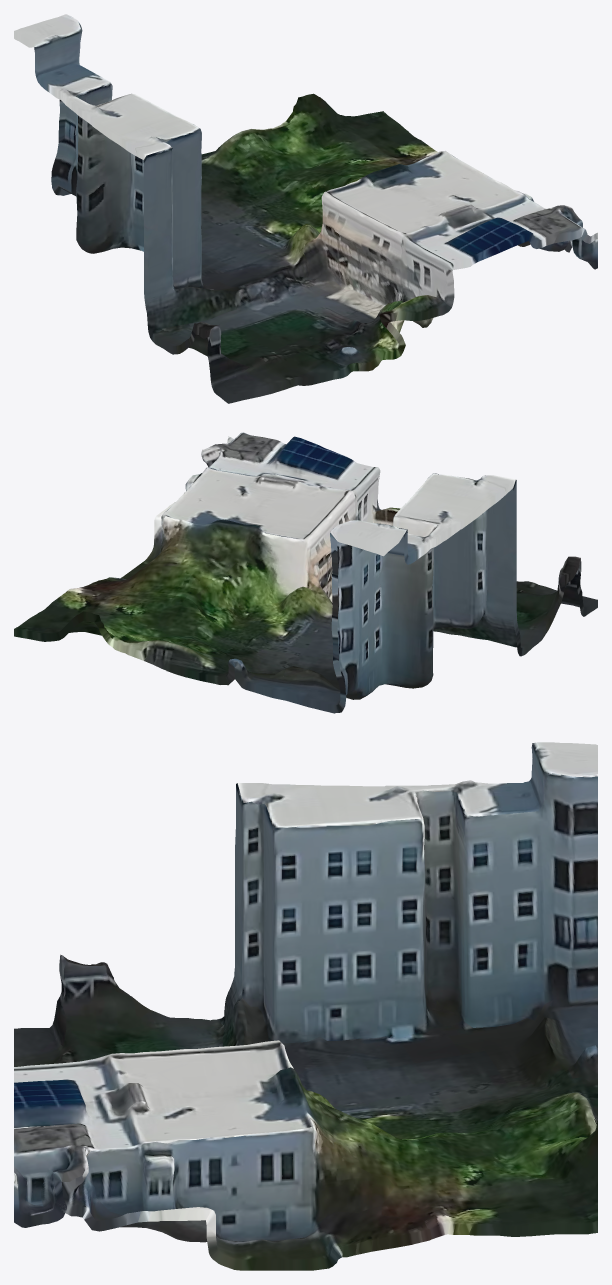
The model's file is z20-167726-405193-h0-yup-uvflip-v3-world.glb.
3 views of the same model, one above another, from view 1: azimuth 30°, elevation 25°; view 2: azimuth 150°, elevation 25°; view 3: azimuth 270°, elevation 25° (orthographic). The views are drawn at different scales.
Size of the model in its own units: 30.16 by 17.32 by 30.32.
1 material, 1 textured.
